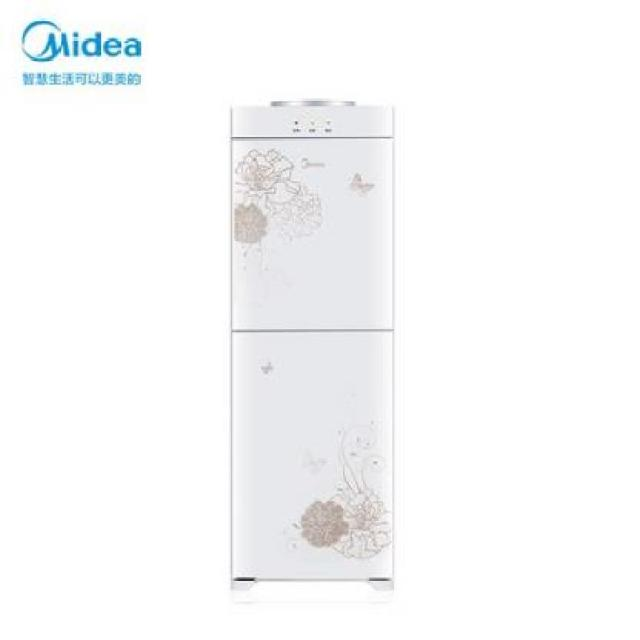cooler: (225, 94, 402, 597)
